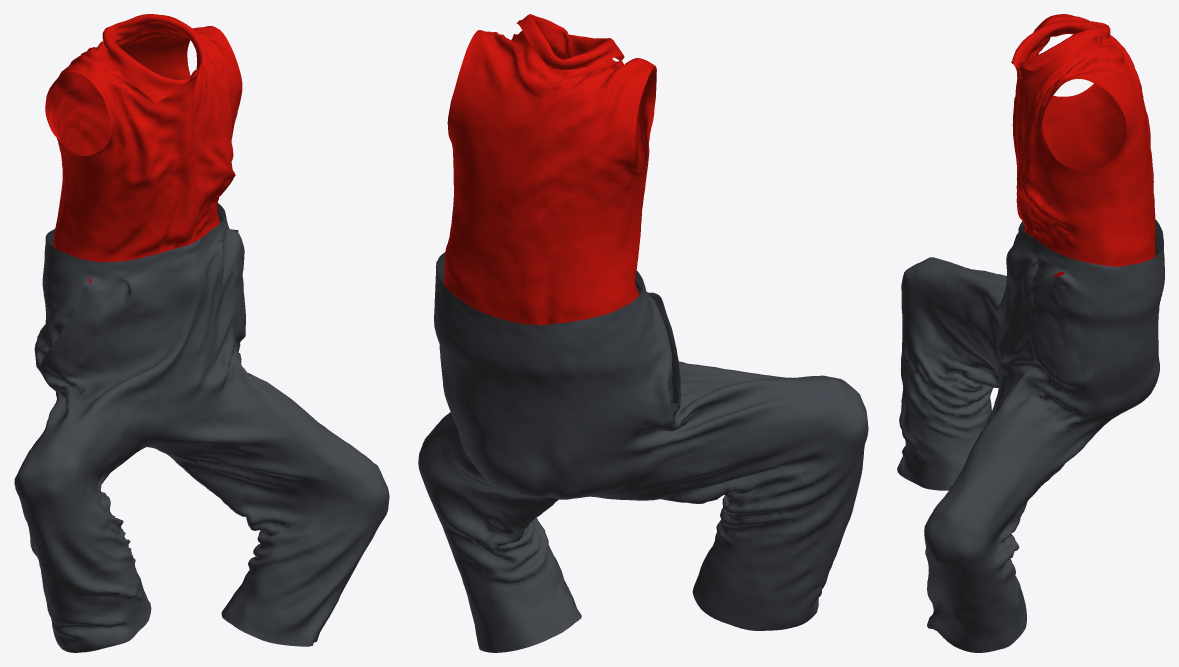
Rendered from aneko_015_0_aneko_015_1.obj.
3 views of the same model, side by side, from view 1: azimuth 30°, elevation 25°; view 2: azimuth 150°, elevation 25°; view 3: azimuth 270°, elevation 25° (orthographic). The views are drawn at different scales.
Visible parts, largest first — view 1: aneko_015_0_aneko_015_1, aneko_015_0_aneko_015_1.001; view 2: aneko_015_0_aneko_015_1, aneko_015_0_aneko_015_1.001; view 3: aneko_015_0_aneko_015_1, aneko_015_0_aneko_015_1.001.
Boxes of the visible parts, x1,y1,x2,y2 form: aneko_015_0_aneko_015_1: (14, 203, 389, 652); aneko_015_0_aneko_015_1.001: (45, 14, 242, 284); aneko_015_0_aneko_015_1: (418, 252, 868, 652); aneko_015_0_aneko_015_1.001: (444, 14, 656, 324); aneko_015_0_aneko_015_1: (897, 219, 1164, 652); aneko_015_0_aneko_015_1.001: (1011, 14, 1155, 277).
Bounding box in the file's own units: 0.6989 × 1.06 × 0.4477.
